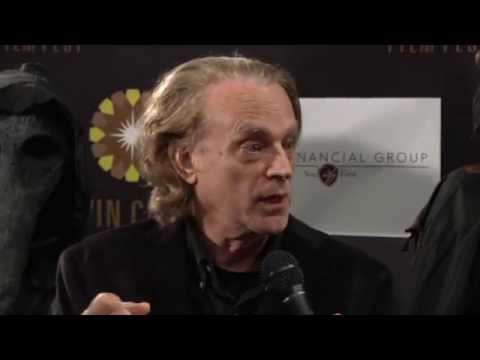bad: (196, 96, 325, 225)
